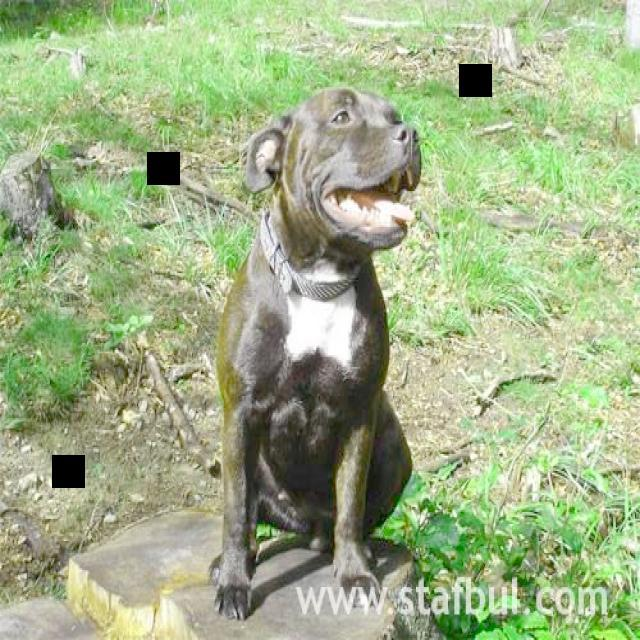puppy-dog: (210, 83, 425, 620)
